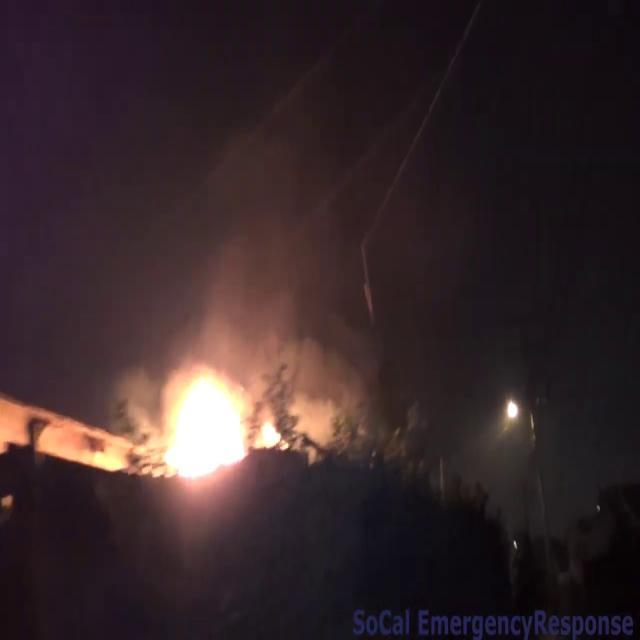Fire: (150, 359, 274, 486)
Smoke: (94, 79, 383, 399)
